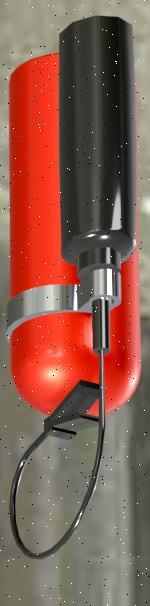Fire Extinguisher: (8, 15, 150, 563)
